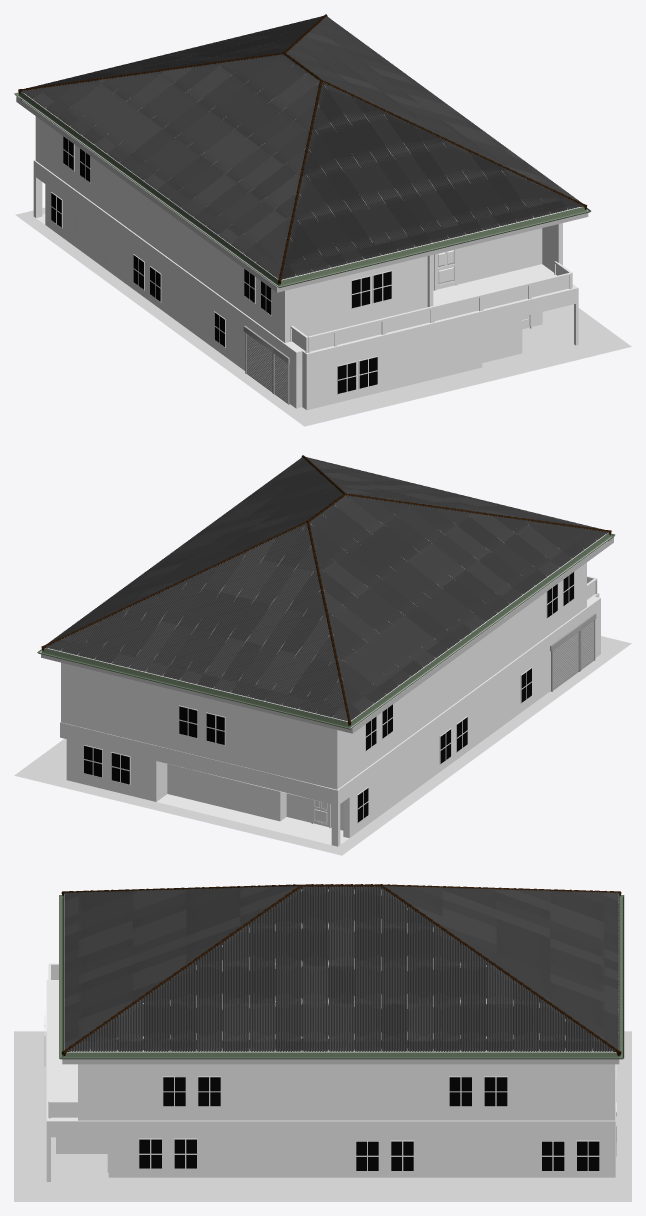
Rendered from rumah depan5.fbx.
3 views of the same model, one above another, from view 1: azimuth 30°, elevation 25°; view 2: azimuth 150°, elevation 25°; view 3: azimuth 270°, elevation 25° (orthographic). The views are drawn at different scales.
Visible parts, largest first — view 1: Atap, RollingShutter.001, pinggirjendela.024, Plane, pinggirjendela.009, Atap.001, pinggirjendela.001, pinggirjendela.002, pinggirjendela.006; view 2: Atap, RollingShutter.001, pinggirjendela.024, Plane, Atap.001, pinggirjendela.006, pinggirjendela.002; view 3: Atap, RollingShutter.001, pinggirjendela.024, Plane, Atap.001, pinggirjendela.009, RollingShutter.007, jendela.002, jendela3.002, pinggir jendela.001, jendela4, jendela.001 (+8 smaller).
Boxes of the visible parts, left/top/right/bottom form: Atap: left=14, top=14, right=591, bottom=287; RollingShutter.001: left=33, top=160, right=578, bottom=410; pinggirjendela.024: left=35, top=116, right=562, bottom=342; Plane: left=15, top=207, right=631, bottom=426; pinggirjendela.009: left=290, top=261, right=572, bottom=352; Atap.001: left=16, top=96, right=588, bottom=292; pinggirjendela.001: left=434, top=249, right=457, bottom=290; pinggirjendela.002: left=63, top=136, right=90, bottom=183; pinggirjendela.006: left=244, top=269, right=271, bottom=315; Atap: left=37, top=455, right=615, bottom=729; RollingShutter.001: left=60, top=593, right=600, bottom=846; pinggirjendela.024: left=61, top=562, right=586, bottom=789; Plane: left=14, top=636, right=631, bottom=855; Atap.001: left=41, top=536, right=613, bottom=733; pinggirjendela.006: left=546, top=571, right=574, bottom=618; pinggirjendela.002: left=365, top=704, right=393, bottom=751; Atap: left=59, top=884, right=624, bottom=1059; RollingShutter.001: left=46, top=979, right=616, bottom=1181; pinggirjendela.024: left=78, top=1064, right=615, bottom=1120; Plane: left=14, top=1031, right=631, bottom=1201; Atap.001: left=62, top=1059, right=619, bottom=1064; pinggirjendela.009: left=48, top=963, right=77, bottom=1118; RollingShutter.007: left=355, top=1140, right=564, bottom=1171; jendela.002: left=484, top=1077, right=507, bottom=1106; jendela3.002: left=449, top=1077, right=471, bottom=1106; pinggir jendela.001: left=577, top=1141, right=599, bottom=1170; jendela4: left=542, top=1141, right=564, bottom=1170; jendela.001: left=198, top=1077, right=220, bottom=1106.
Bounding box in the file's own units: 2385 × 1457 × 3598.
